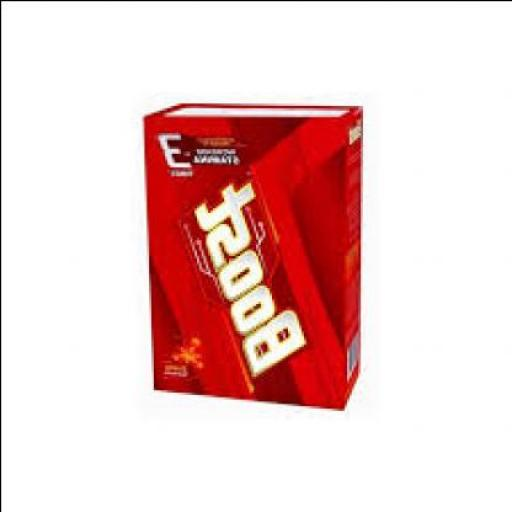cardboard: (145, 100, 362, 405)
